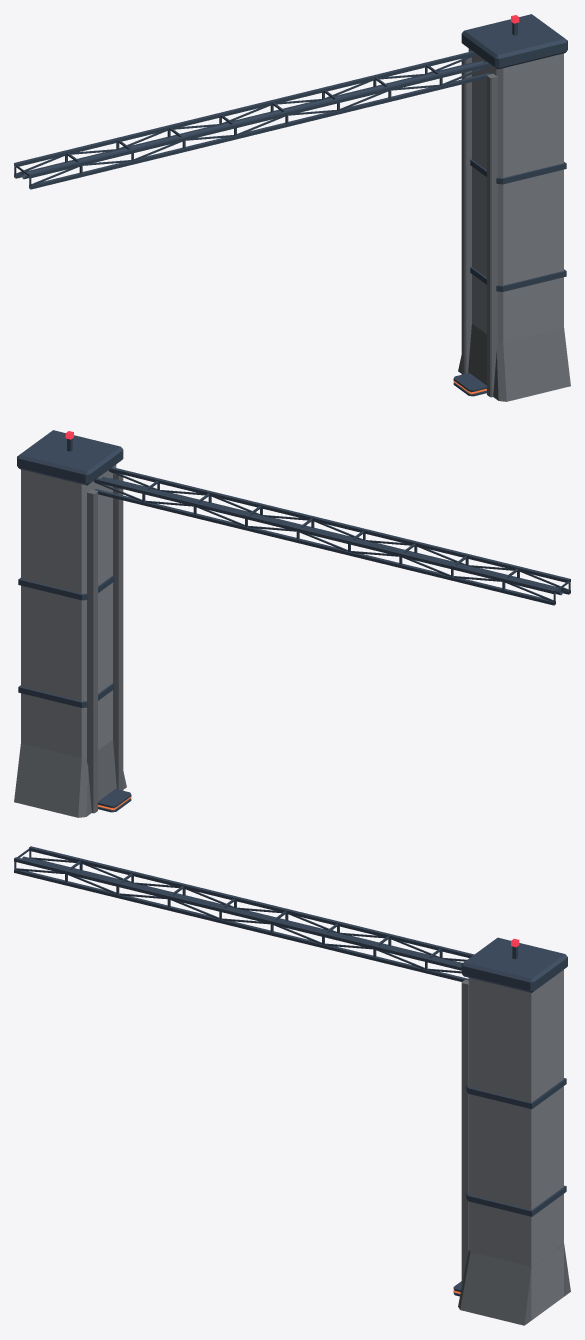
The model's file is RS_GateHousing.glb.
The picture shows the model from 3 angles, top to bottom: view 1: azimuth 30°, elevation 25°; view 2: azimuth 150°, elevation 25°; view 3: azimuth 330°, elevation 25°; orthographic projection.
Parts seen in each view (by area): view 1: RS_GateHousing__pylon_body, RS_GateHousing__truss, RS_GateHousing__pylon_cheeks, RS_GateHousing__pylon_footing, RS_GateHousing__pylon_crown, RS_GateHousing__manifold, RS_GateHousing__pylon_bands, RS_GateHousing__collar; view 2: RS_GateHousing__pylon_body, RS_GateHousing__truss, RS_GateHousing__pylon_cheeks, RS_GateHousing__pylon_footing, RS_GateHousing__pylon_crown, RS_GateHousing__manifold, RS_GateHousing__pylon_bands, RS_GateHousing__collar; view 3: RS_GateHousing__pylon_body, RS_GateHousing__truss, RS_GateHousing__pylon_footing, RS_GateHousing__pylon_crown, RS_GateHousing__pylon_cheeks, RS_GateHousing__pylon_bands, RS_GateHousing__manifold.
Boxes of the visible parts, x1,y1,x2,y2 form: RS_GateHousing__pylon_body: (468,48,563,341); RS_GateHousing__truss: (14,51,490,189); RS_GateHousing__pylon_cheeks: (461,57,497,397); RS_GateHousing__pylon_footing: (458,324,570,401); RS_GateHousing__pylon_crown: (461,14,567,69); RS_GateHousing__manifold: (21,61,483,179); RS_GateHousing__pylon_bands: (470,159,566,291); RS_GateHousing__collar: (453,373,486,396); RS_GateHousing__pylon_body: (21,464,116,757); RS_GateHousing__truss: (94,467,570,605); RS_GateHousing__pylon_cheeks: (87,473,123,813); RS_GateHousing__pylon_footing: (14,740,126,817); RS_GateHousing__pylon_crown: (17,430,123,485); RS_GateHousing__manifold: (101,477,563,595); RS_GateHousing__pylon_bands: (18,575,114,707); RS_GateHousing__collar: (98,789,131,812); RS_GateHousing__pylon_body: (468,970,563,1320); RS_GateHousing__truss: (14,846,474,981); RS_GateHousing__pylon_footing: (458,1244,570,1325); RS_GateHousing__pylon_crown: (461,937,567,992); RS_GateHousing__pylon_cheeks: (461,980,468,1285); RS_GateHousing__pylon_bands: (466,1078,566,1216); RS_GateHousing__manifold: (22,856,461,965).
Bounding box in the file's own units: 61.7 × 40.2 × 9.4.
